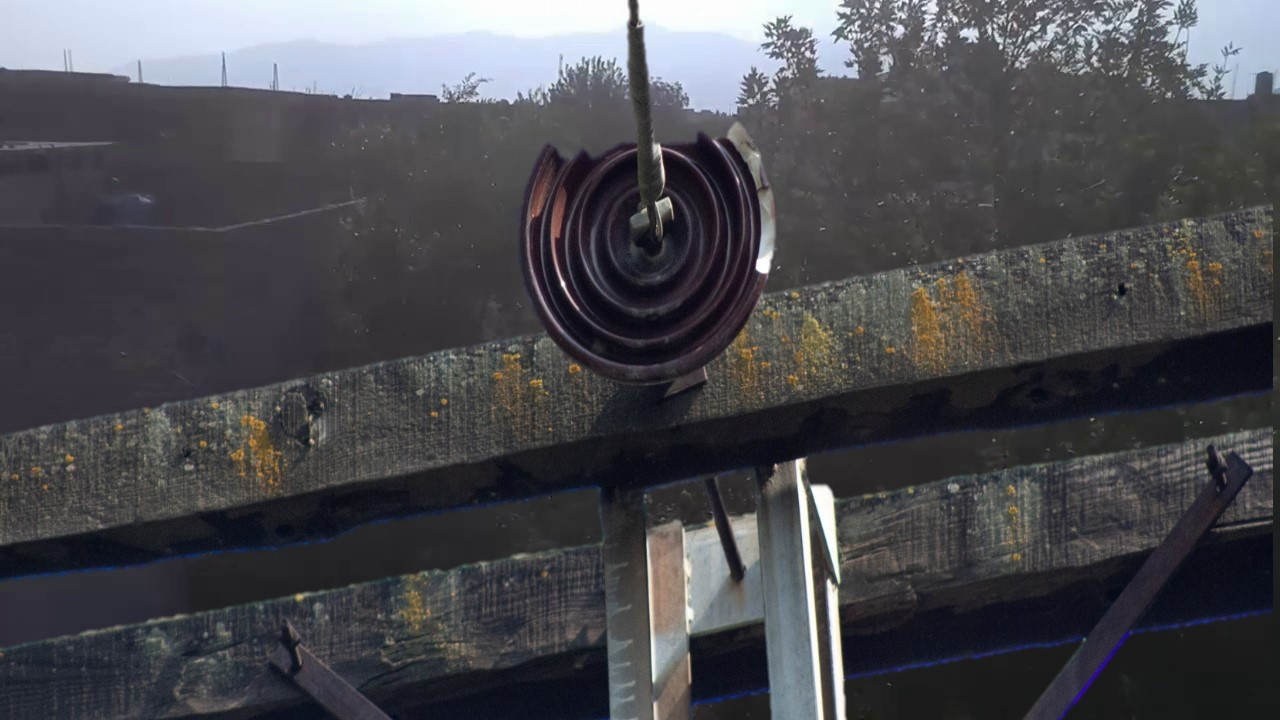defect_disc: (513, 114, 785, 390)
